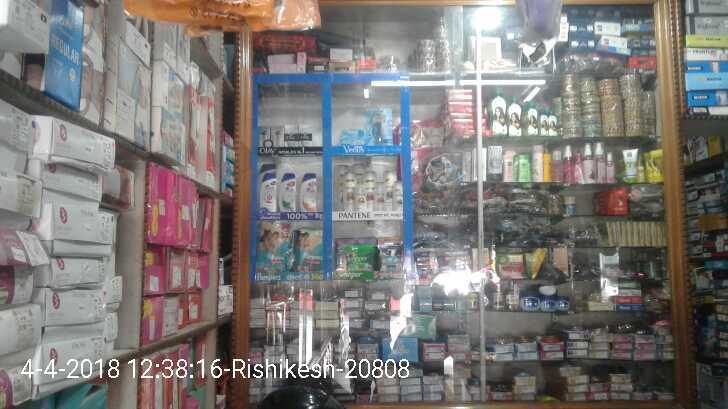venus: (367, 106, 394, 146), (343, 131, 367, 146)
